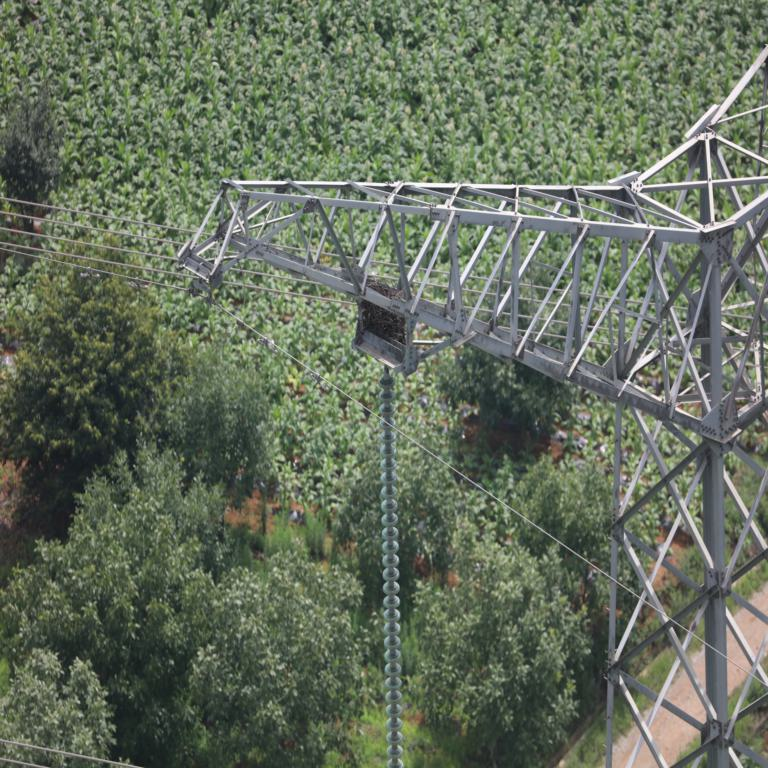nest: (363, 278, 415, 342)
